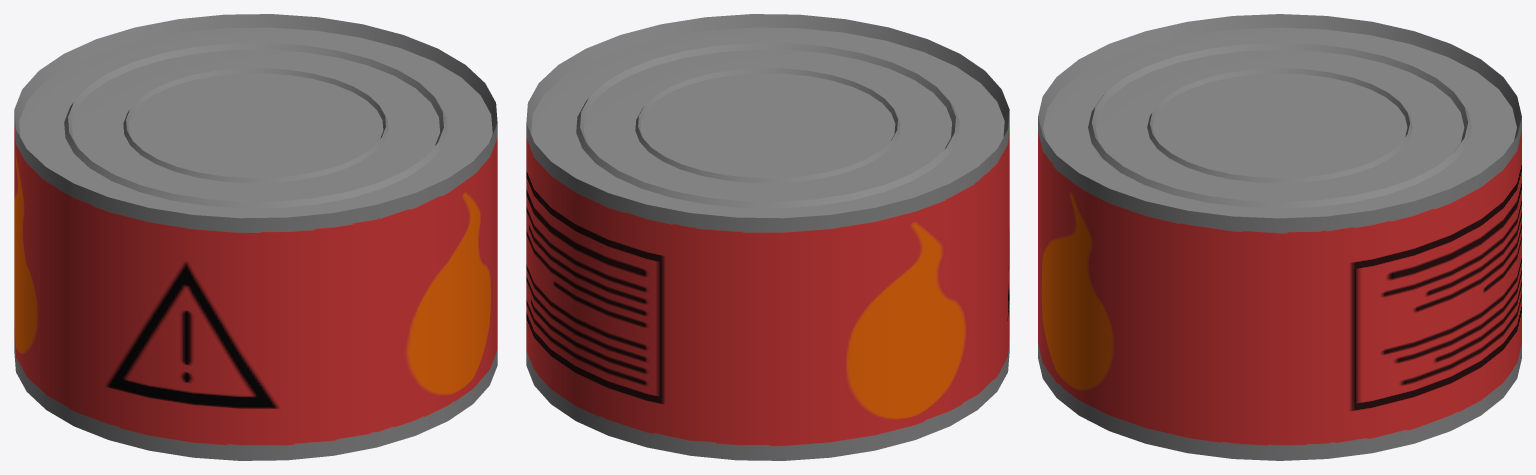
The model's file is ThermiteInACan.fbx.
3 renders of one model, left to right at view 1: azimuth 30°, elevation 25°; view 2: azimuth 150°, elevation 25°; view 3: azimuth 270°, elevation 25°, orthographic.
Parts seen in each view (by area): view 1: Cylinder; view 2: Cylinder; view 3: Cylinder.
Part boxes in pixels (box(x1,y1,x2,y2)): Cylinder: box(14, 14, 497, 460); Cylinder: box(526, 14, 1009, 460); Cylinder: box(1038, 14, 1521, 460).
Bounding box in the file's own units: 760 × 420 × 760.
Materials: 1 (1 with a texture image).
